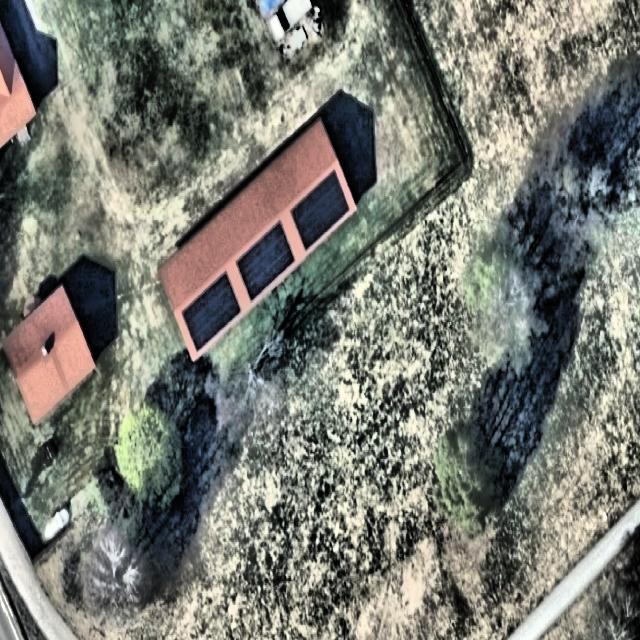roof_pv: (236, 214, 297, 303), (182, 267, 242, 357), (291, 168, 352, 252)
